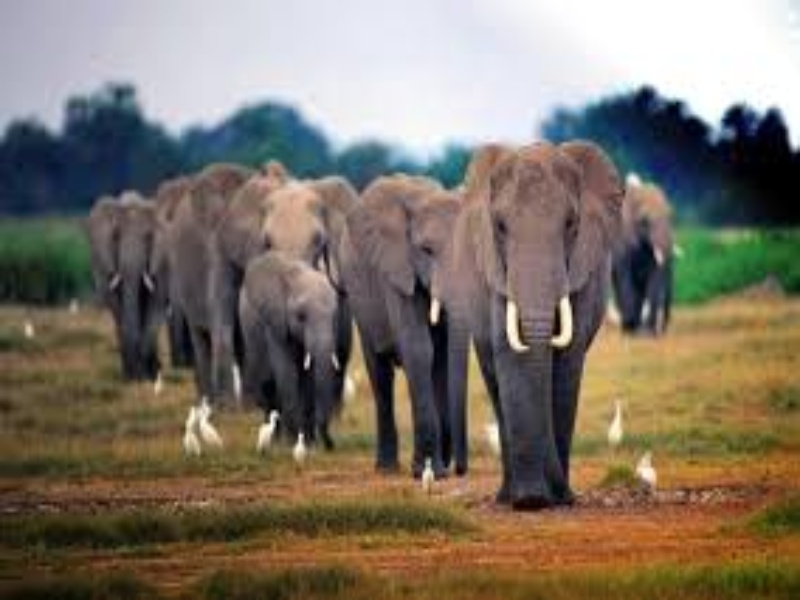elephant: (78, 132, 696, 527)
